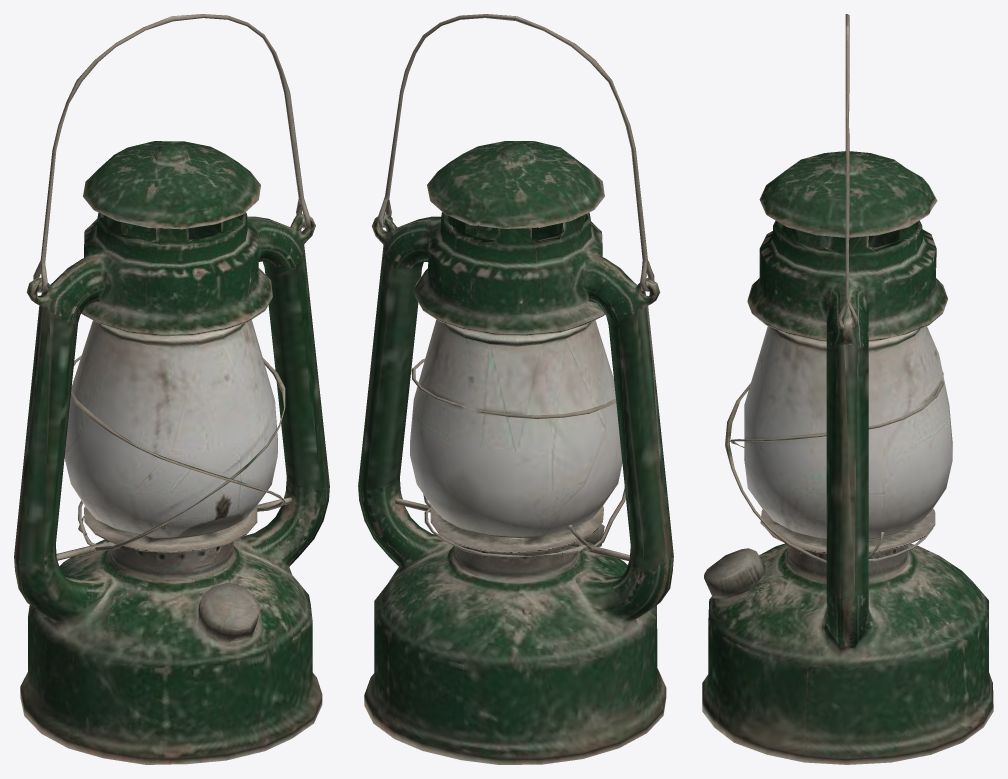
Rendered from skyways-d-of-lantern.glb.
3 renders of one model, left to right at view 1: azimuth 30°, elevation 25°; view 2: azimuth 150°, elevation 25°; view 3: azimuth 270°, elevation 25°, orthographic.
Visible parts, largest first — view 1: skyways-d-of-lantern; view 2: skyways-d-of-lantern; view 3: skyways-d-of-lantern.
Part boxes in pixels (box(x1,y1,x2,y2)): skyways-d-of-lantern: box(14, 14, 329, 764); skyways-d-of-lantern: box(358, 14, 673, 764); skyways-d-of-lantern: box(702, 14, 993, 764).
Size of the model in its own units: 0.1698 by 0.36 by 0.141.
Materials: 1 (1 with a texture image).
